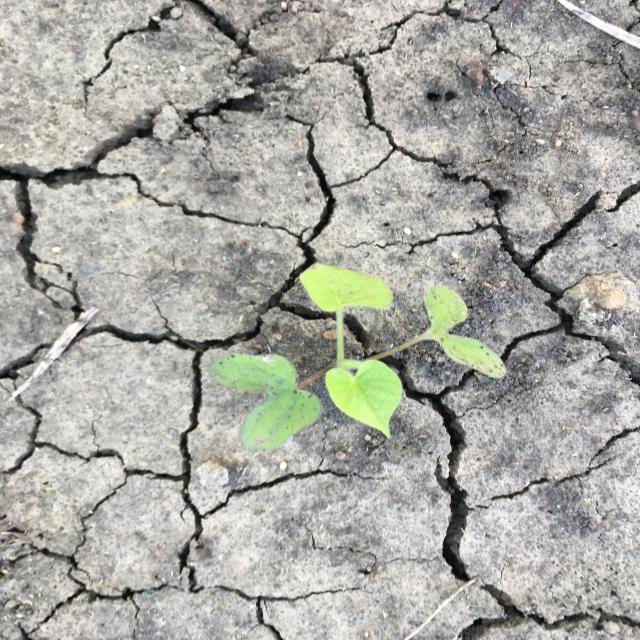MorningGlory: (206, 261, 508, 456)
